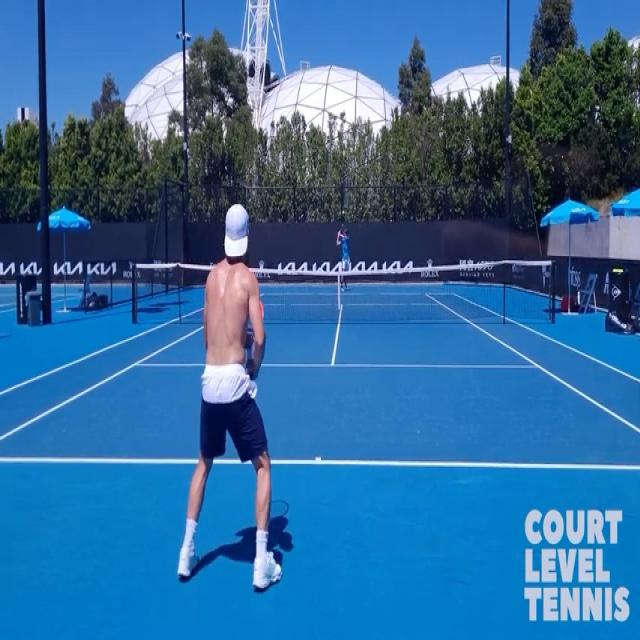ready-position: (177, 197, 290, 588)
